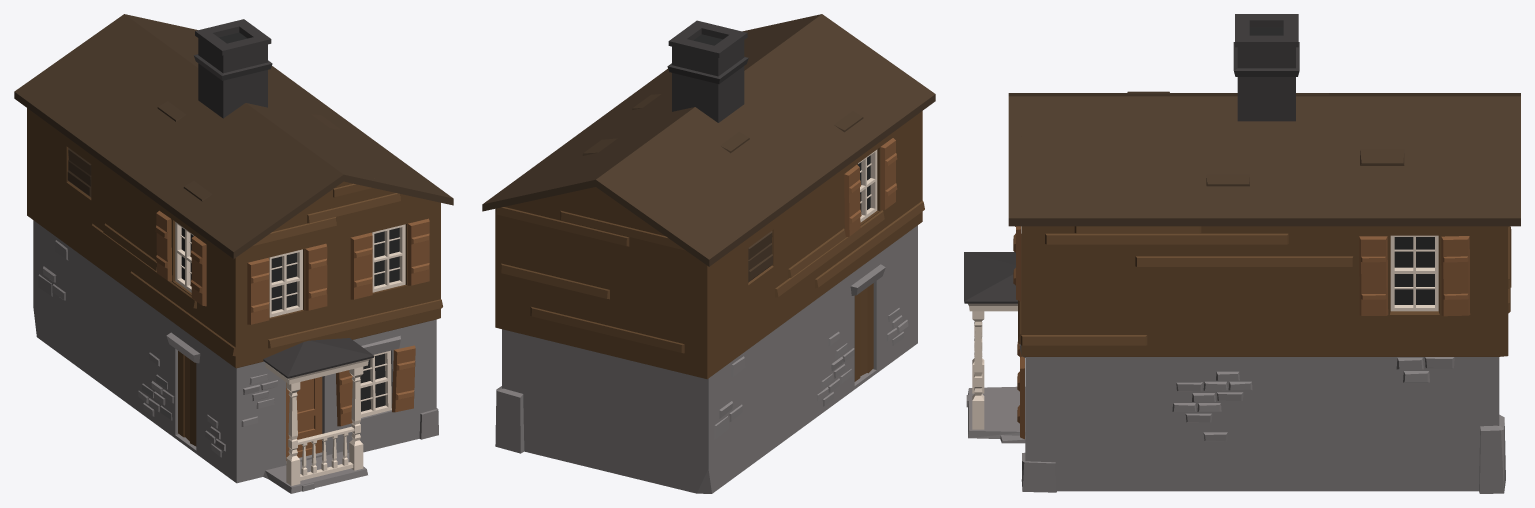
File: pirates-house-pirate-new.glb
3 renders of one model, left to right at view 1: azimuth 30°, elevation 25°; view 2: azimuth 150°, elevation 25°; view 3: azimuth 270°, elevation 25°, orthographic. The views are drawn at different scales.
Parts seen in each view (by area): view 1: house-pirate-new; view 2: house-pirate-new; view 3: house-pirate-new.
Boxes of the visible parts, x1=… form: house-pirate-new: x1=14, y1=14, x2=453, y2=493; house-pirate-new: x1=482, y1=14, x2=935, y2=493; house-pirate-new: x1=964, y1=14, x2=1520, y2=493.
Size of the model in its own units: 5.68 by 8.59 by 10.67.
